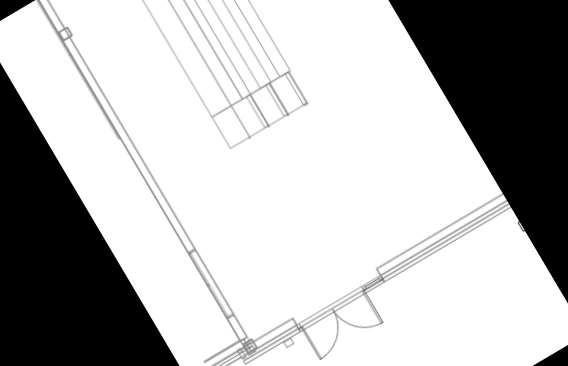double door: (295, 283, 389, 364)
window: (180, 241, 244, 327)
